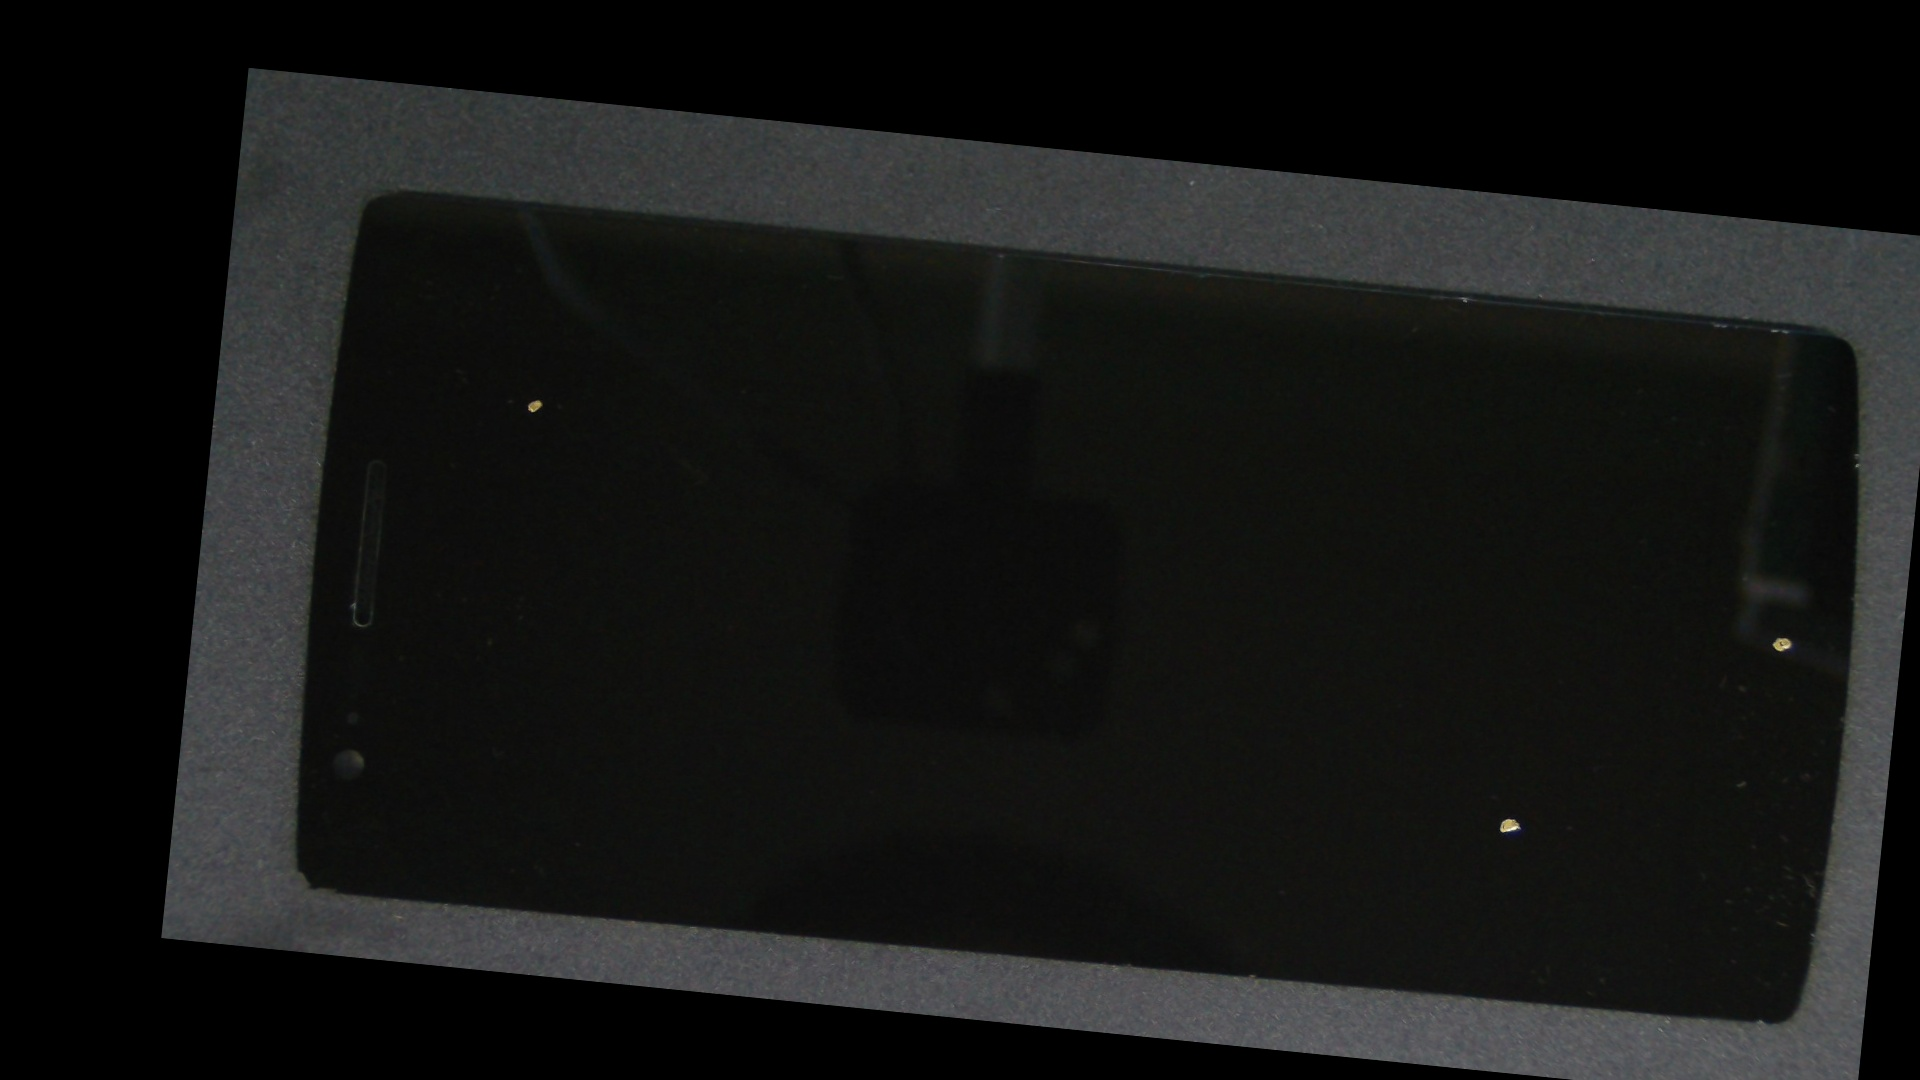oil: (823, 440, 1912, 1080), (977, 352, 1920, 853), (364, 233, 713, 564)
